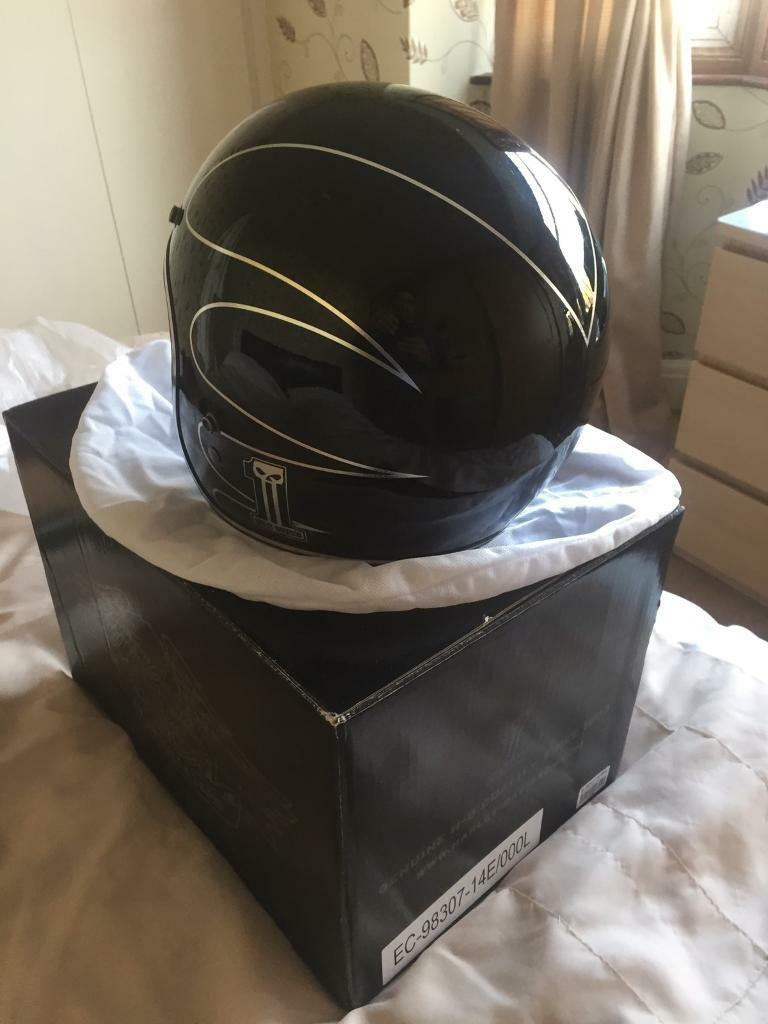with_helmet: (161, 83, 627, 556)
